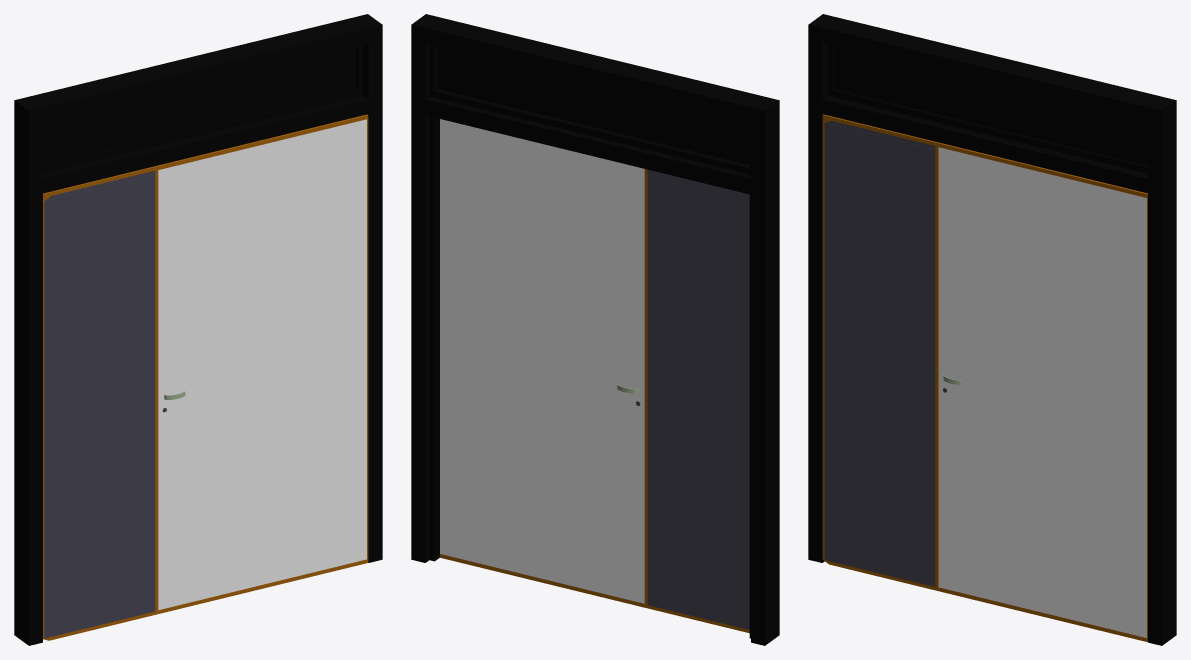
File: PuertaLab_AsaelB_46873107.fbx
The picture shows the model from 3 angles, left to right: view 1: azimuth 30°, elevation 25°; view 2: azimuth 150°, elevation 25°; view 3: azimuth 330°, elevation 25°; orthographic projection.
Parts seen in each view (by area): view 1: Puerta, Marco, PuertaPequeña, MarcoEntrepuerta; view 2: Puerta, Marco, PuertaPequeña, MarcoEntrepuerta; view 3: Puerta, Marco, PuertaPequeña, MarcoEntrepuerta.
Part boxes in pixels (x1,y1,x2,y2): Puerta: (158, 114, 368, 613); Marco: (14, 14, 382, 645); PuertaPequeña: (43, 165, 157, 640); MarcoEntrepuerta: (155, 166, 158, 614); Puerta: (440, 119, 644, 607); Marco: (411, 14, 779, 645); PuertaPequeña: (647, 169, 749, 633); MarcoEntrepuerta: (644, 169, 647, 608); Puerta: (938, 142, 1147, 642); Marco: (808, 14, 1176, 645); PuertaPequeña: (822, 114, 938, 590); MarcoEntrepuerta: (935, 142, 938, 590).
Size of the model in its own units: 167 by 242 by 14.24.
Materials: 1 (1 with a texture image).
